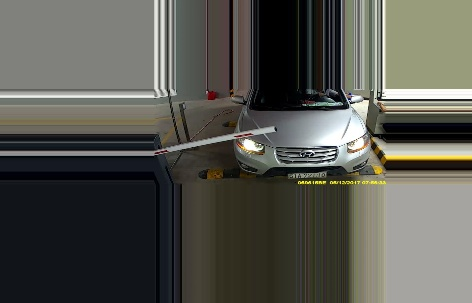plate: (284, 170, 327, 179)
